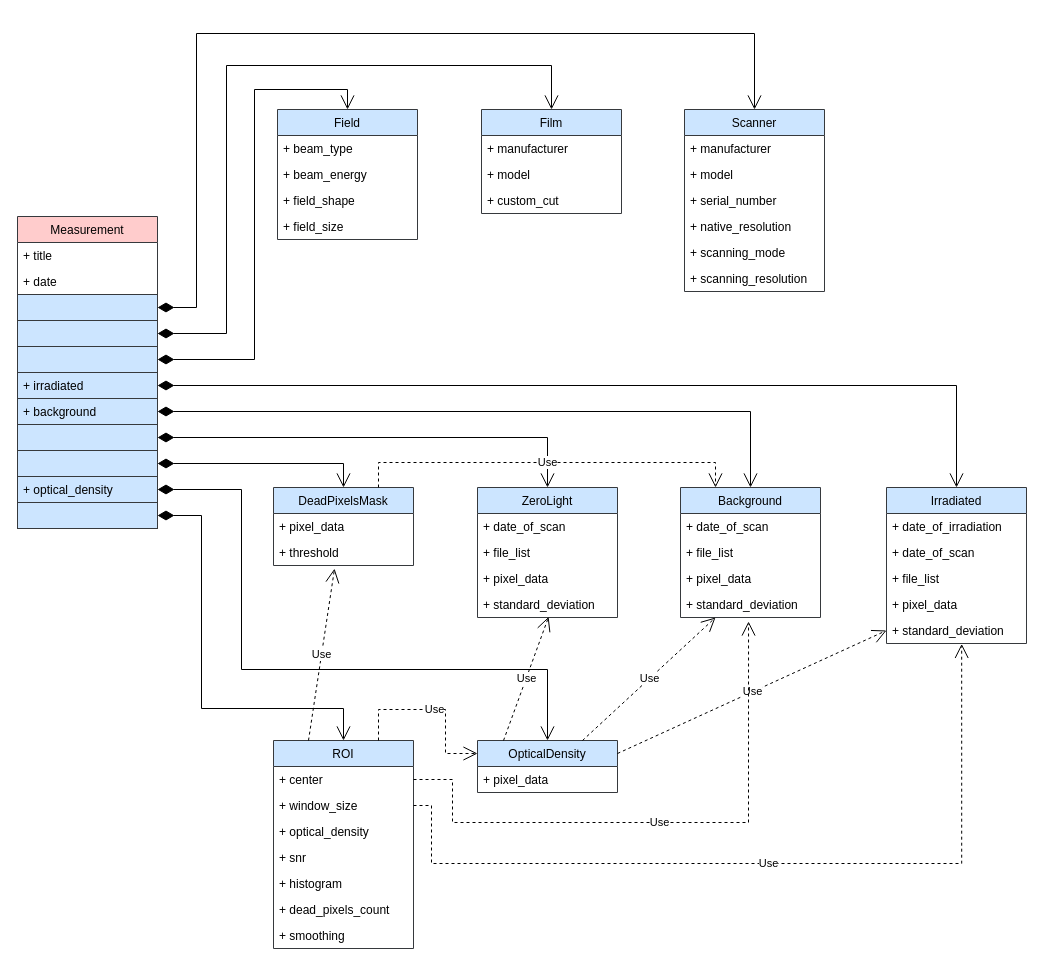
The diagram is 1044 pixels wide and 969 high, and some of its shapes have lost their labels. The centre of each missing label's shape, as x and y in pixels:
+ dead_pixels_mask: (x=87, y=463)
+ field: (x=87, y=359)
+ film: (x=87, y=333)
+ roi: (x=87, y=515)
+ scanner: (x=87, y=307)
+ zero_light: (x=87, y=437)
